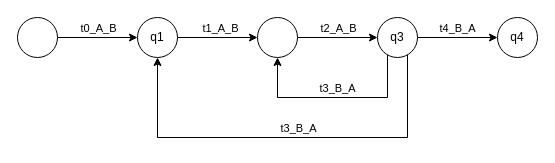
Some shapes in this 555 by 163 pixel diagram are drawn without their labels. Here are the shapes that lost their labels. From the top down, the centre of each, then its label:
At point 37,37: "q0".
At point 277,37: "q2".
